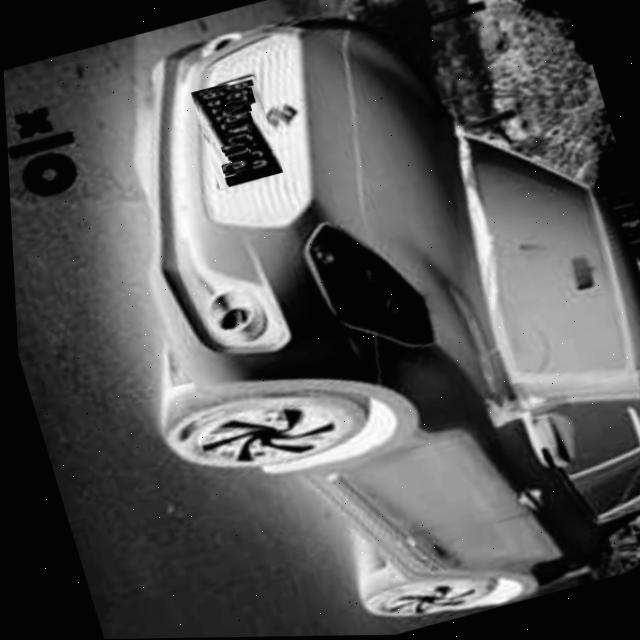1: (217, 140, 248, 155)
3: (223, 130, 247, 144)
7: (216, 92, 251, 111), (218, 104, 246, 117)
8: (216, 87, 248, 103), (221, 79, 249, 91)
A: (223, 122, 248, 136)
G: (217, 158, 249, 175)
IND: (220, 168, 253, 185)
Indian_registered: (192, 84, 277, 184)
J: (223, 147, 248, 161)
R: (220, 111, 248, 126)
